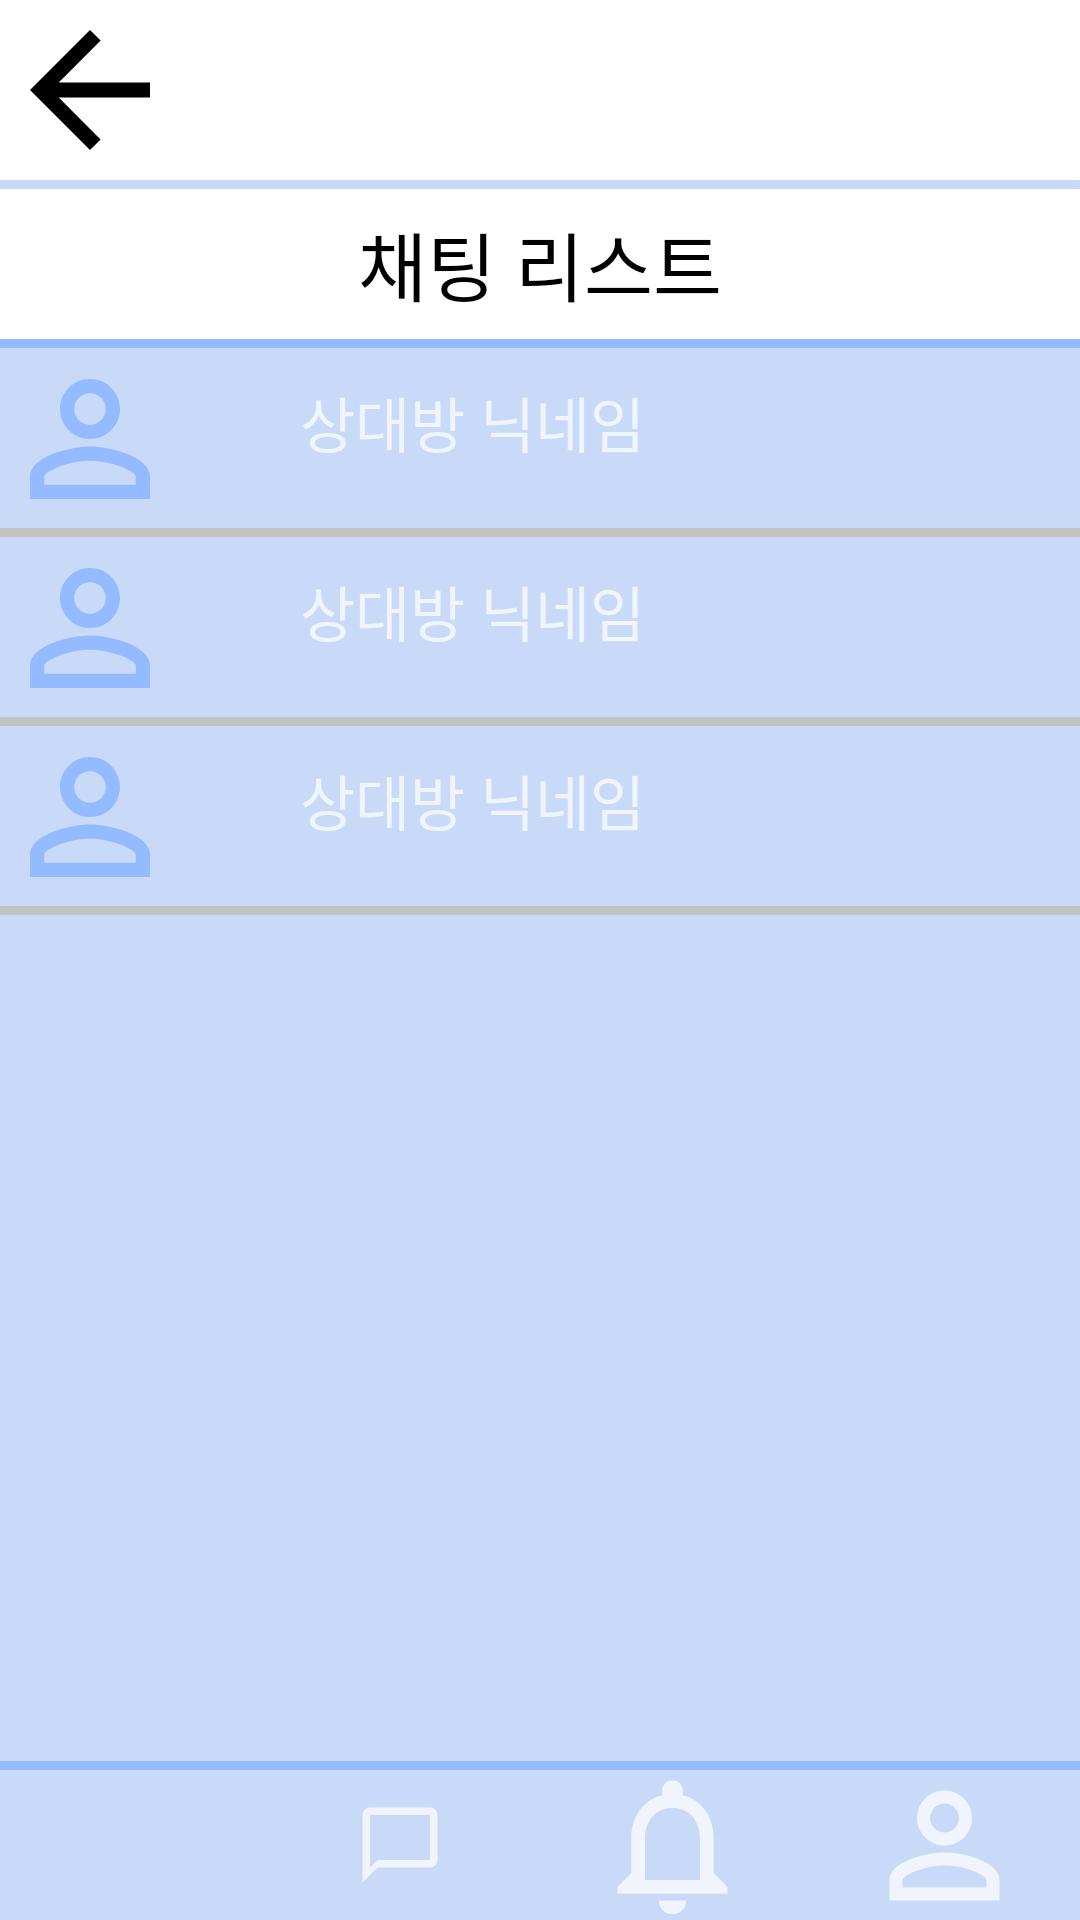

Where to tap for icons on this 1080px x 1920px app screen, as [x,y]:
arrow back: [90,90]
chat bubble: [400,1844]
notifications none: [672,1847]
